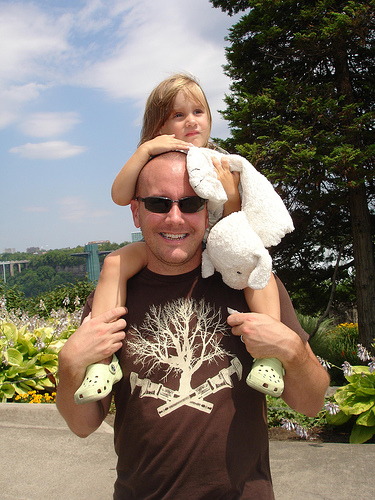without_mask: (125, 162, 224, 278), (153, 78, 217, 153)
